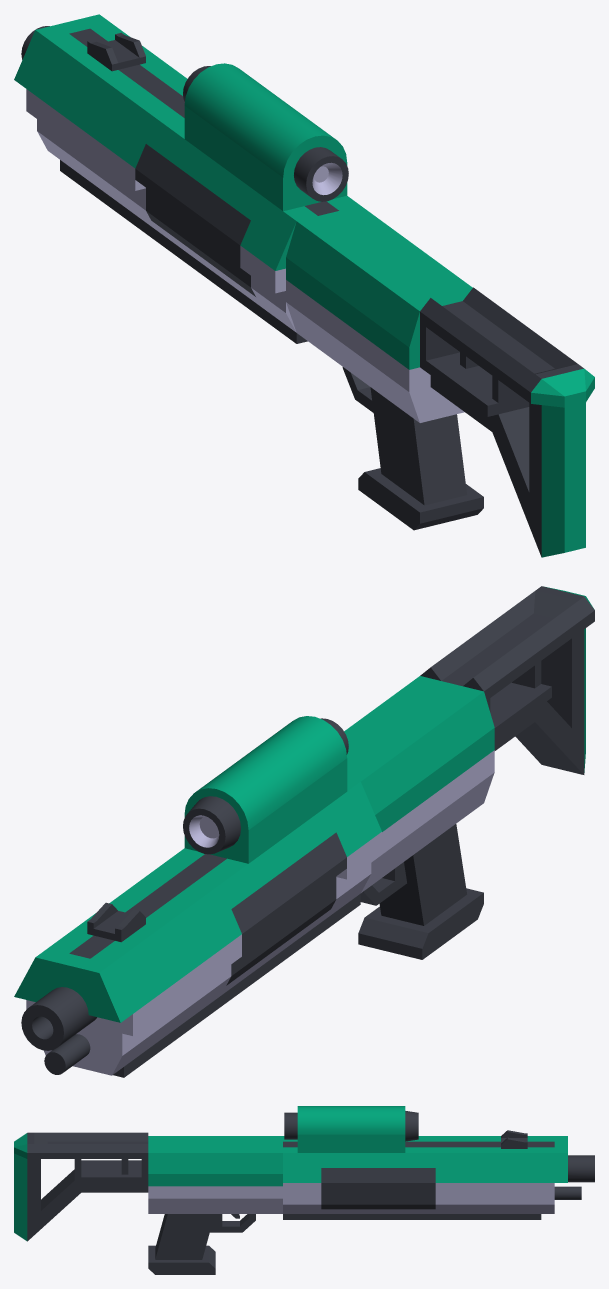
File: shotgun.glb
3 renders of one model, top to bottom at view 1: azimuth 30°, elevation 25°; view 2: azimuth 150°, elevation 25°; view 3: azimuth 270°, elevation 25°, orthographic. The views are drawn at different scales.
Visible parts, largest first — view 1: mediumBlaster_handle, stock_stealth, largeBlaster_centerDetail, scope_small, largeBlaster_barrelAssault, detailTargetSight; view 2: mediumBlaster_handle, largeBlaster_centerDetail, largeBlaster_barrelAssault, stock_stealth, scope_small, detailTargetSight; view 3: mediumBlaster_handle, largeBlaster_centerDetail, stock_stealth, largeBlaster_barrelAssault, scope_small, detailTargetSight.
Part boxes in pixels (box(x1,y1,x2,y2)): mediumBlaster_handle: box(286, 205, 483, 530); stock_stealth: box(420, 287, 594, 557); largeBlaster_centerDetail: box(100, 77, 360, 343); scope_small: box(183, 63, 348, 211); largeBlaster_barrelAssault: box(14, 14, 185, 215); detailTargetSight: box(87, 32, 145, 71); mediumBlaster_handle: box(344, 676, 494, 959); largeBlaster_centerDetail: box(122, 778, 381, 1032); largeBlaster_barrelAssault: box(14, 894, 206, 1077); stock_stealth: box(420, 586, 594, 774); scope_small: box(183, 716, 348, 863); detailTargetSight: box(87, 902, 145, 942); mediumBlaster_handle: box(148, 1136, 282, 1274); largeBlaster_centerDetail: box(283, 1136, 473, 1219); stock_stealth: box(14, 1132, 148, 1241); largeBlaster_barrelAssault: box(474, 1136, 594, 1219); scope_small: box(284, 1106, 418, 1152); detailTargetSight: box(501, 1130, 527, 1148).
Size of the model in its own units: 0.5 by 1.3 by 4.32.
